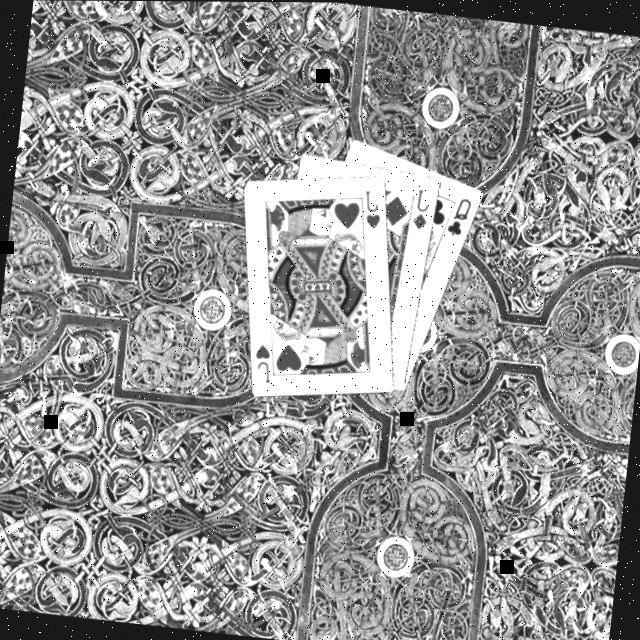JD: (410, 186, 434, 235)
JH: (358, 188, 386, 234), (250, 342, 278, 386)
QC: (443, 194, 476, 242)
